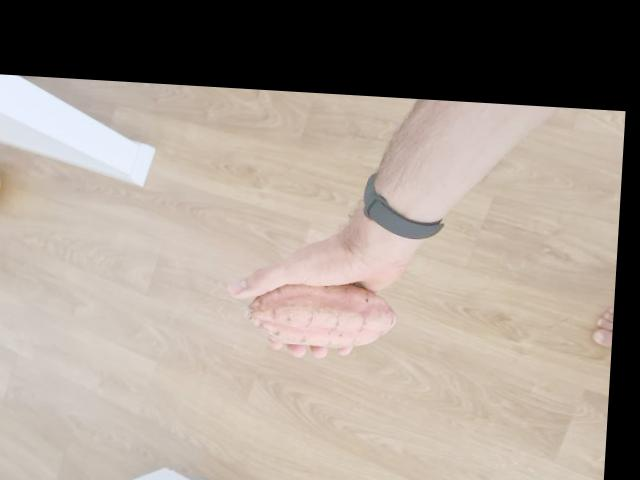sweet_potato: (247, 273, 399, 353)
